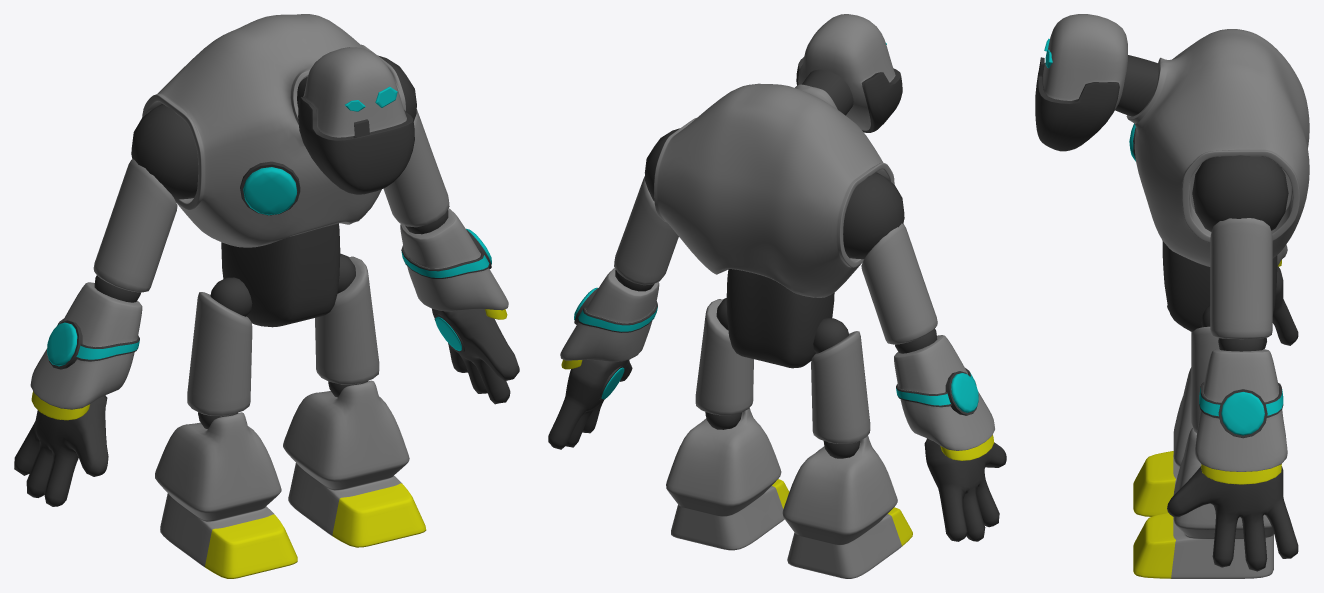
Rendered from Alpha.fbx.
3 renders of one model, left to right at view 1: azimuth 30°, elevation 25°; view 2: azimuth 150°, elevation 25°; view 3: azimuth 270°, elevation 25°, orthographic. The views are drawn at different scales.
Visible parts, largest first — view 1: leg (×2), polySurface5, forearm (×2), Head, thigh (×2), Hand (×2), bicep (×2), Pelvis, sholder, Chest_light, light, hip; view 2: polySurface5, leg (×2), forearm (×2), thigh (×2), bicep (×2), Hand (×2), Pelvis, Head, sholder (×2), neck, light, hip; view 3: polySurface5, leg (×2), Head, forearm, Hand (×2), bicep, sholder, Pelvis, light, neck, thigh, elbow.
Part boxes in pixels (<box>): leg (×2): <box>155,380,426,578</box>; polySurface5: <box>142,14,405,247</box>; forearm (×2): <box>30,208,508,420</box>; Head: <box>298,47,414,194</box>; thigh (×2): <box>187,256,379,416</box>; Hand (×2): <box>14,308,519,506</box>; bicep (×2): <box>93,109,449,292</box>; Pelvis: <box>221,223,340,327</box>; sholder: <box>131,104,198,199</box>; Chest_light: <box>240,161,300,215</box>; light: <box>47,320,82,369</box>; hip: <box>210,277,252,316</box>; polySurface5: <box>654,83,894,297</box>; leg (×2): <box>666,408,912,578</box>; forearm (×2): <box>560,268,994,460</box>; thigh (×2): <box>695,299,870,443</box>; bicep (×2): <box>614,176,937,344</box>; Hand (×2): <box>548,359,1006,541</box>; Pelvis: <box>726,269,834,368</box>; Head: <box>796,14,902,132</box>; sholder (×2): <box>644,128,904,259</box>; neck: <box>802,69,853,115</box>; light: <box>945,371,978,415</box>; hip: <box>813,318,848,353</box>; polySurface5: <box>1126,29,1309,266</box>; leg (×2): <box>1133,367,1273,578</box>; Head: <box>1035,14,1127,151</box>; forearm: <box>1195,349,1287,484</box>; Hand (×2): <box>1167,266,1298,571</box>; bicep: <box>1210,218,1272,339</box>; sholder: <box>1192,155,1288,231</box>; Pelvis: <box>1162,241,1277,331</box>; light: <box>1218,389,1267,438</box>; neck: <box>1115,55,1158,116</box>; thigh: <box>1191,326,1219,432</box>; elbow: <box>1218,338,1264,351</box>.
Bounding box in the file's own units: 11.84 × 12.74 × 6.18.
